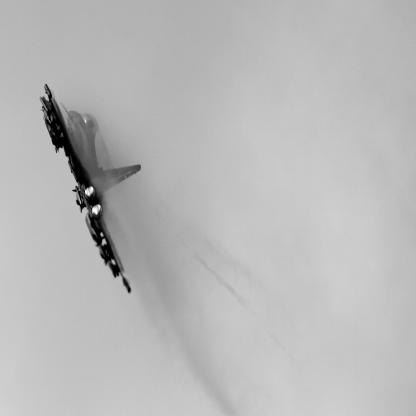EF2000: (40, 85, 142, 296)
